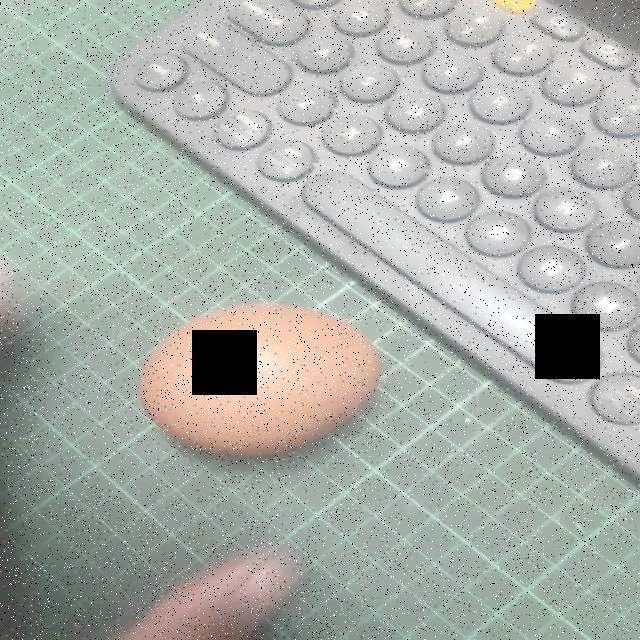egg: (134, 298, 388, 458)
